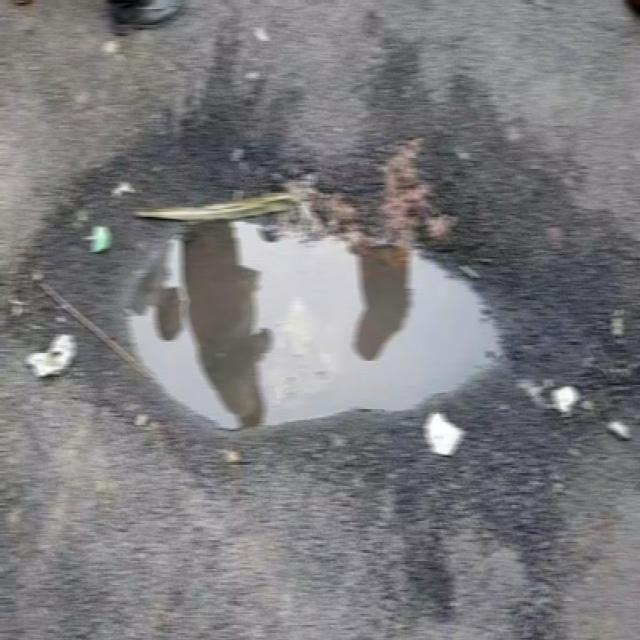Pothole: (0, 121, 544, 441)
